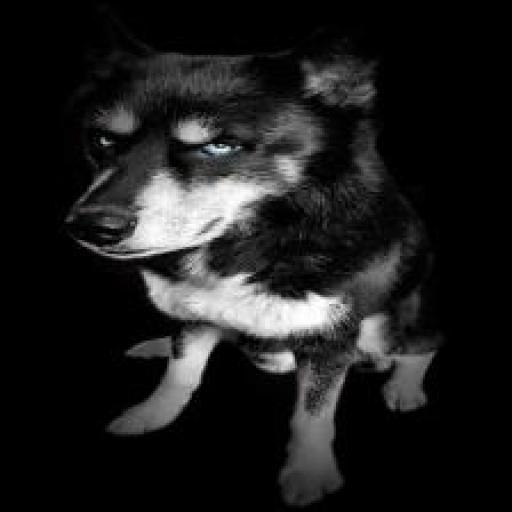wolf: (52, 46, 452, 510)
